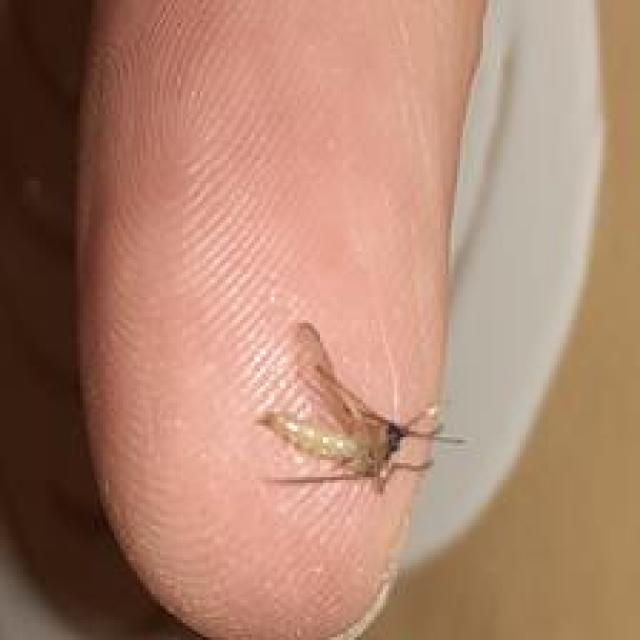Culex: (253, 320, 467, 497)
